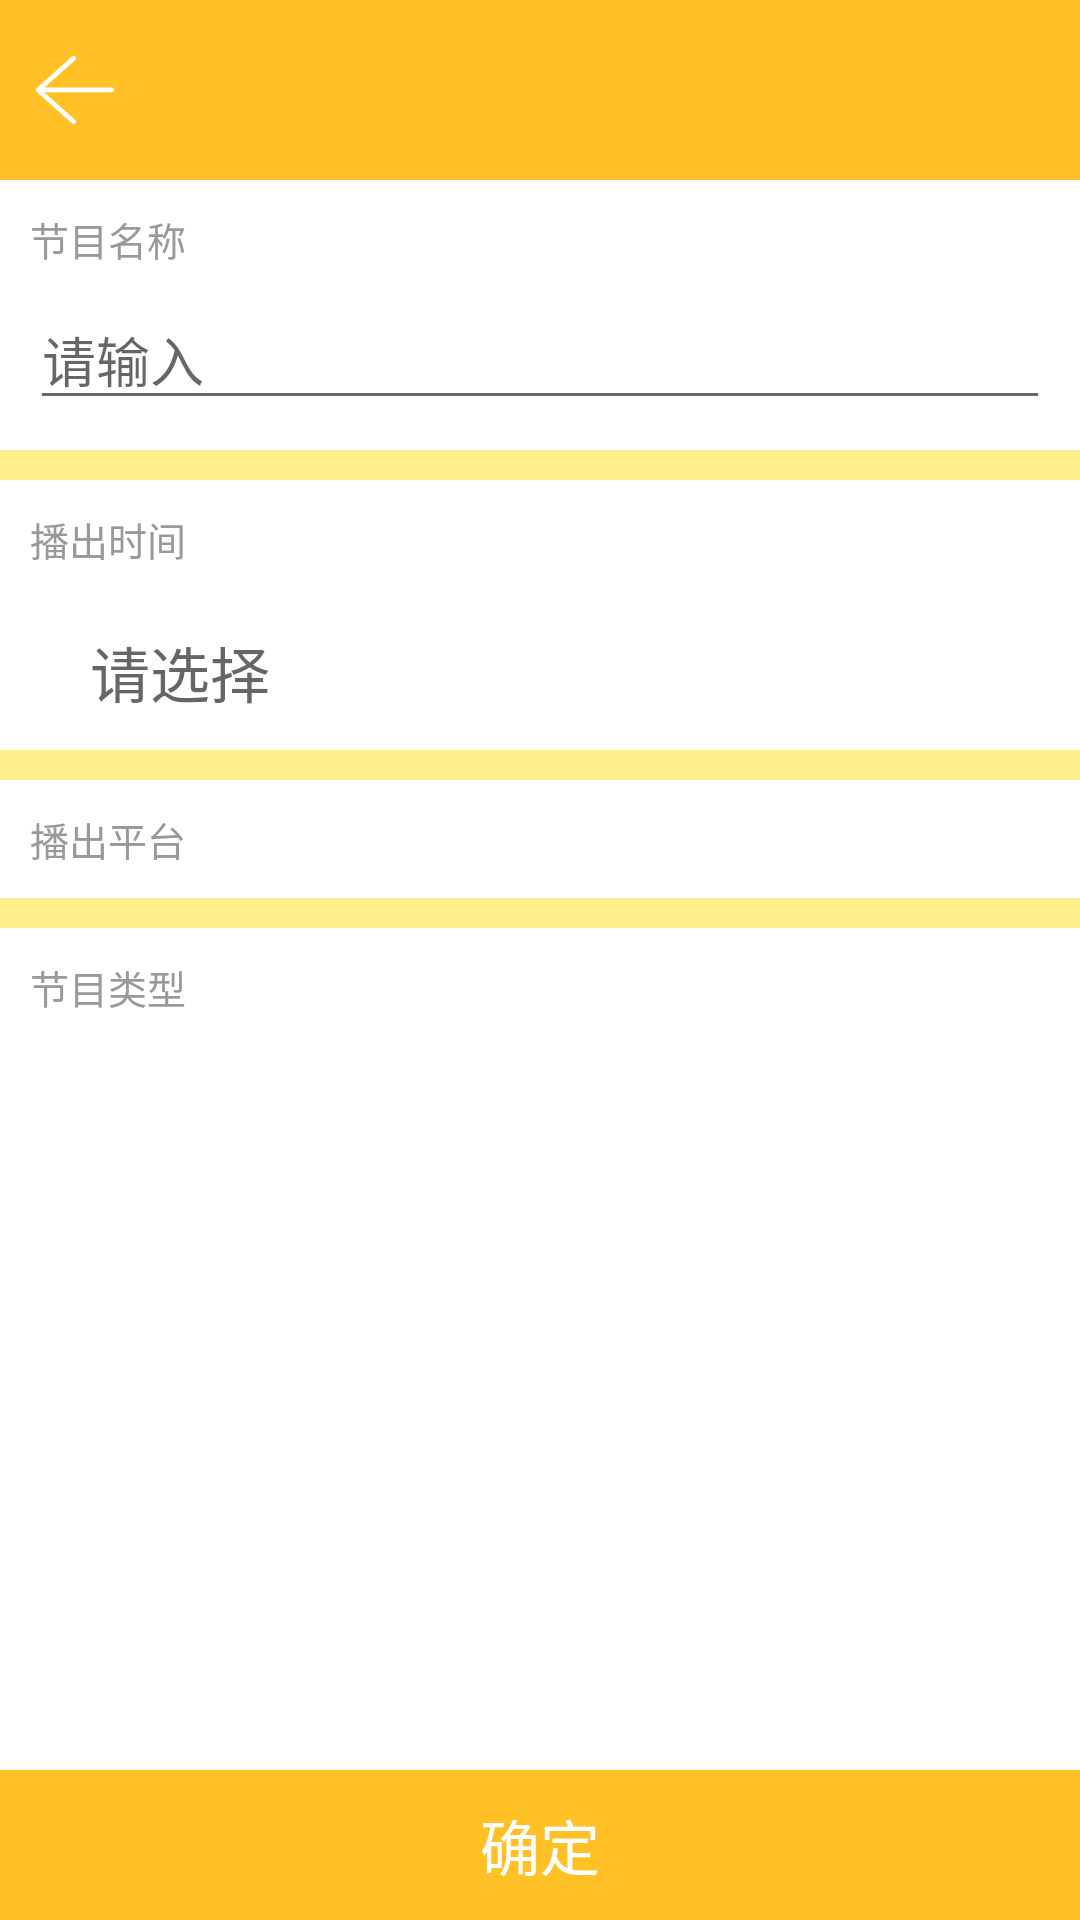

Icons on this 1080w x 1920h Android screen, each with the point to tap as (x,y):
back: (75,90)
